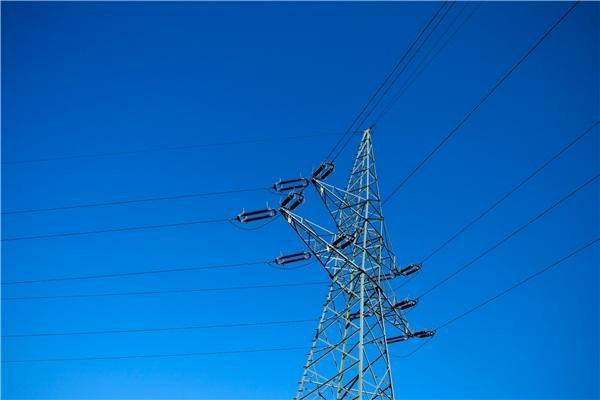power_tower: (256, 119, 436, 400)
